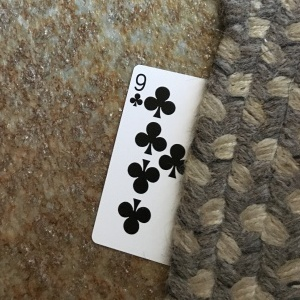card: (92, 63, 208, 267)
